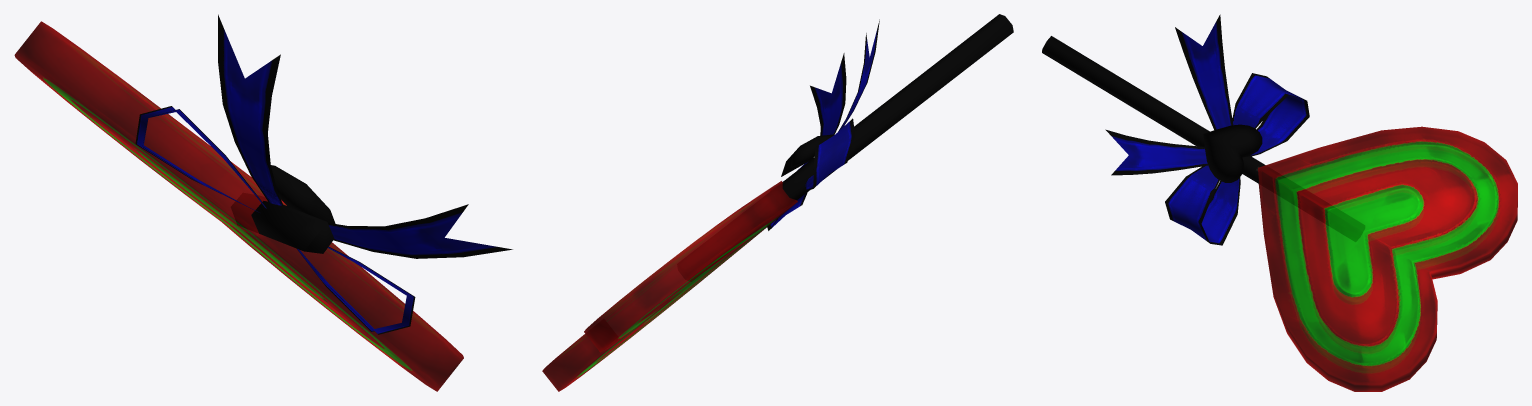
3 views of the same model, side by side, from view 1: azimuth 30°, elevation 25°; view 2: azimuth 150°, elevation 25°; view 3: azimuth 270°, elevation 25° (orthographic). The views are drawn at different scales.
Parts seen in each view (by area): view 1: K1259:1, K1259:0; view 2: K1259:0, K1259:1; view 3: K1259:1, K1259:0.
Part boxes in pixels (box(x1,y1,x2,y2)): K1259:1: box(14, 21, 463, 391); K1259:0: box(135, 14, 512, 334); K1259:0: box(677, 14, 1013, 281); K1259:1: box(542, 181, 797, 391); K1259:1: box(1258, 126, 1517, 391); K1259:0: box(1042, 14, 1364, 245).
Bounding box in the file's own units: 0.2178 × 0.2581 × 0.3827.
